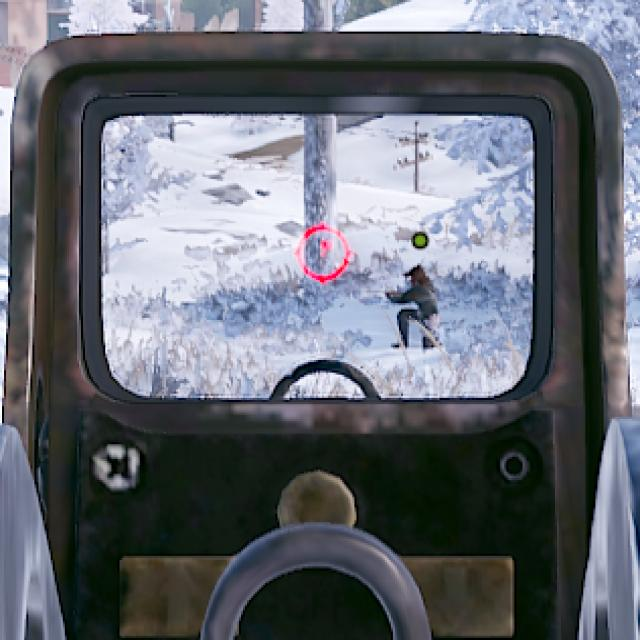Player: (399, 264, 439, 345)
